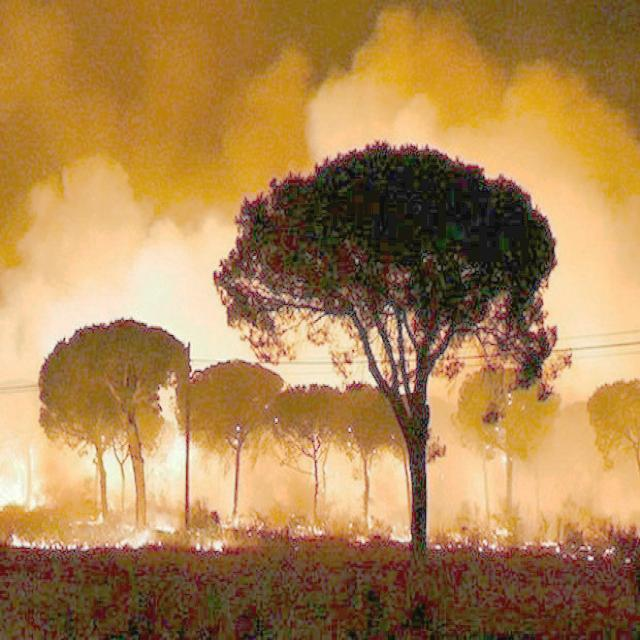api: (10, 525, 96, 555), (115, 528, 156, 554), (193, 532, 231, 556), (527, 537, 564, 553), (495, 521, 512, 540), (92, 510, 109, 528)
asap: (305, 1, 640, 397), (1, 130, 332, 406)
